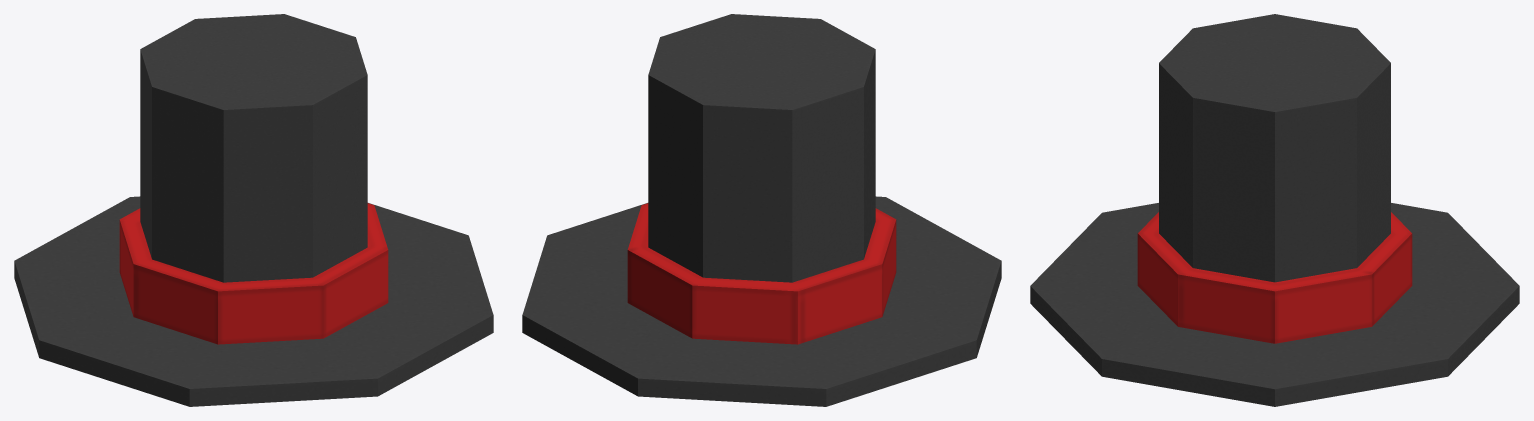
File: TopHat.fbx
3 renders of one model, left to right at view 1: azimuth 30°, elevation 25°; view 2: azimuth 150°, elevation 25°; view 3: azimuth 270°, elevation 25°, orthographic.
Parts seen in each view (by area): view 1: Tophat; view 2: Tophat; view 3: Tophat.
Part boxes in pixels (box(x1,y1,x2,y2)): Tophat: box(14, 14, 493, 406); Tophat: box(522, 14, 1001, 406); Tophat: box(1030, 14, 1519, 406).
Bounding box in the file's own units: 24.55 × 24.55 × 13.31.
